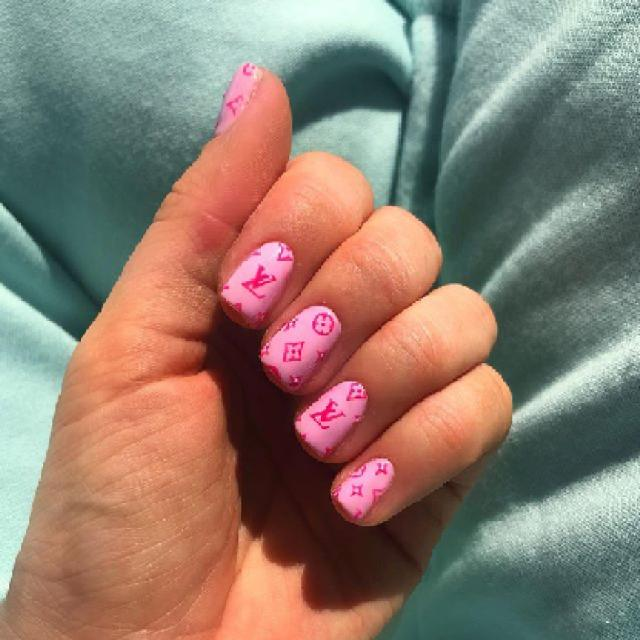Nail: (260, 305, 340, 391), (221, 242, 292, 324), (295, 381, 368, 456), (332, 458, 394, 519), (215, 62, 259, 134)
